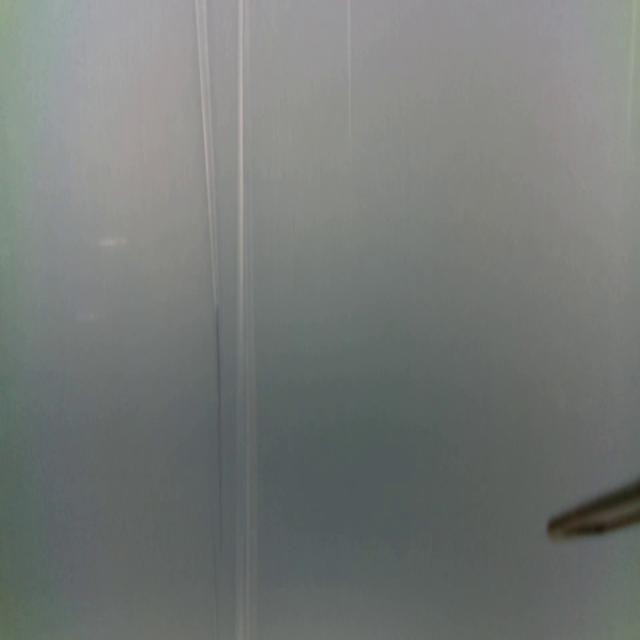crease: (194, 0, 223, 640), (231, 0, 256, 639), (346, 0, 356, 171)
